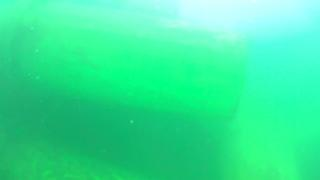pipe: (1, 1, 247, 123), (1, 128, 151, 179)
